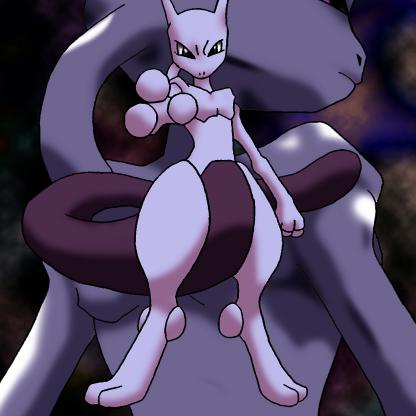Mewtwo: (54, 4, 354, 416)
